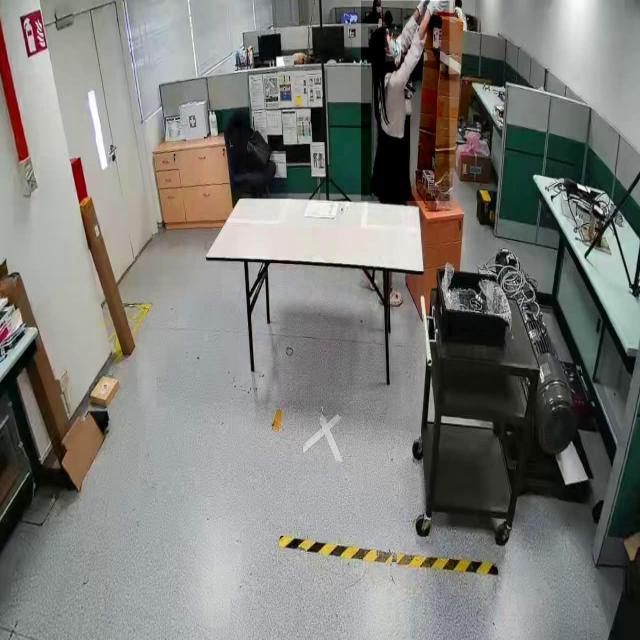face_mask: (386, 28, 402, 62)
hand_glove: (425, 0, 442, 28), (413, 0, 429, 20)
head_nohelmet: (368, 27, 386, 46)
person: (361, 1, 450, 202)
